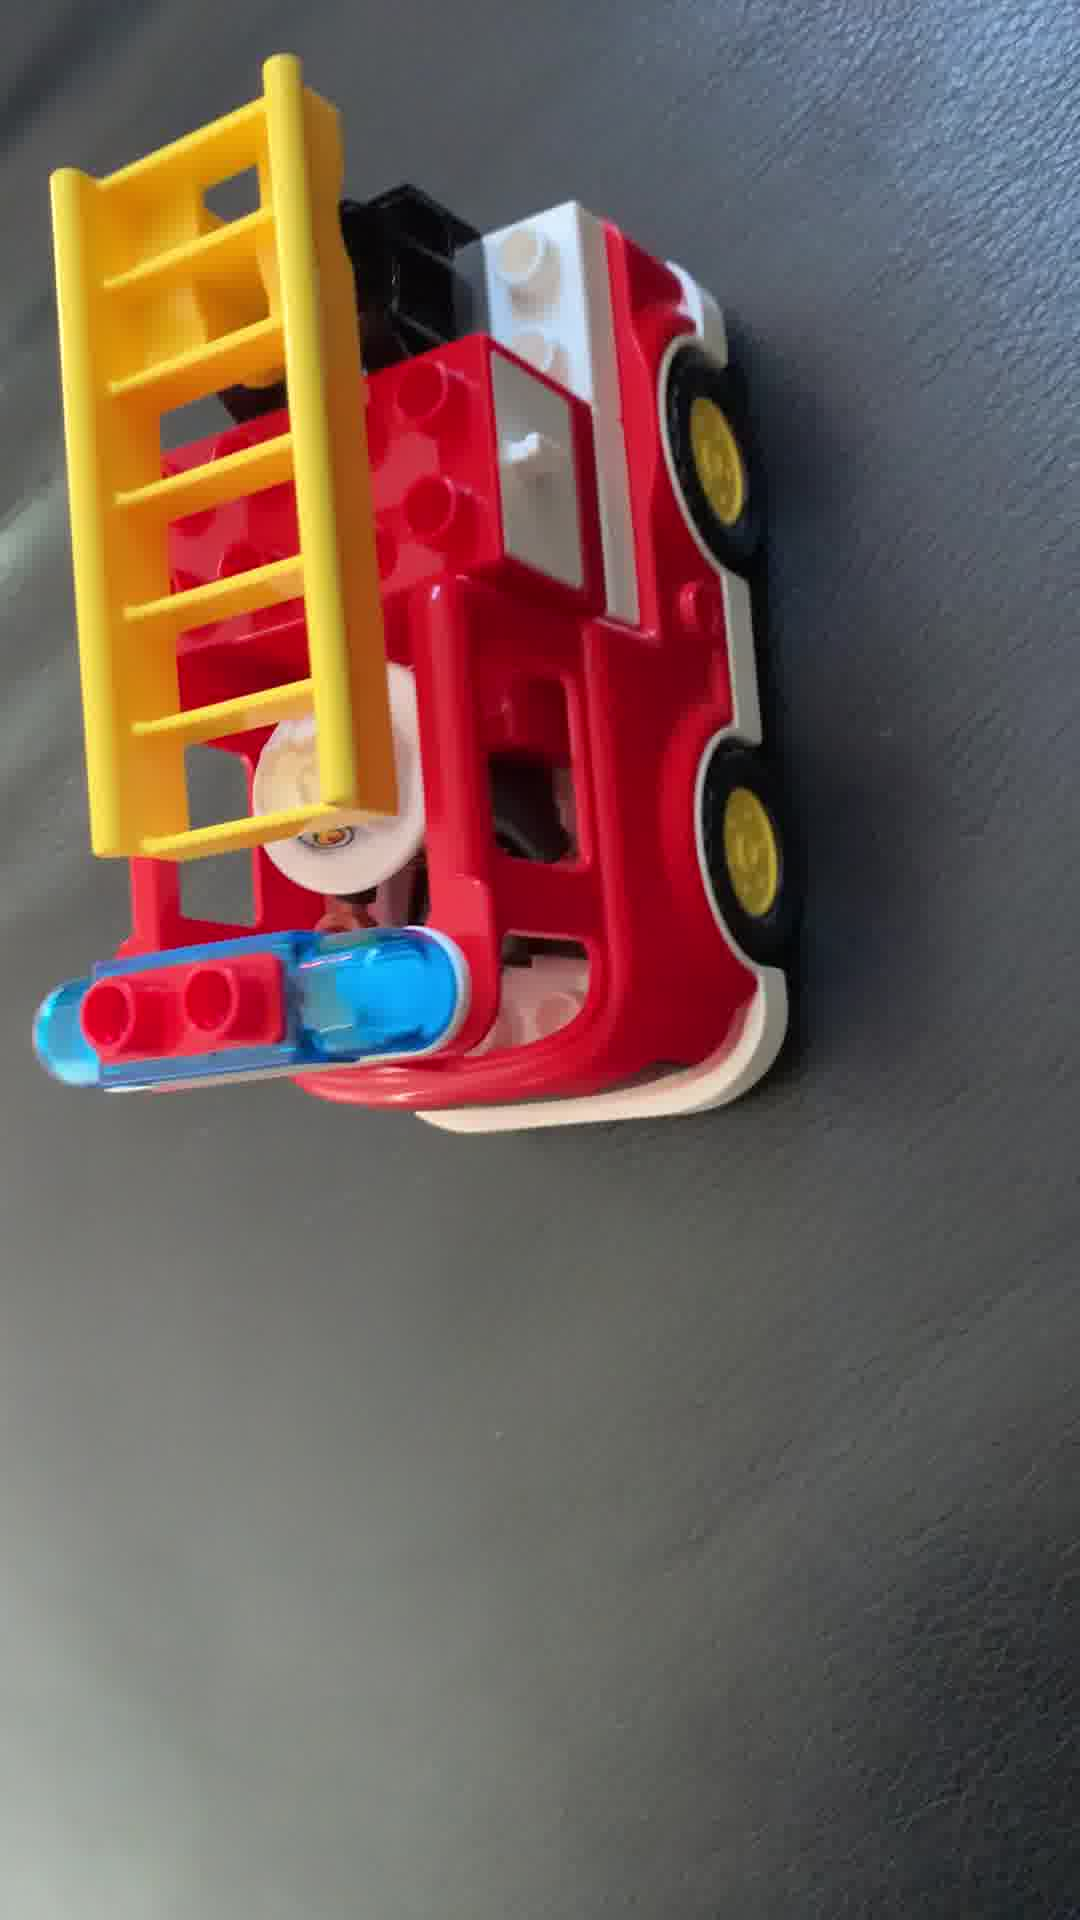lego fire truck: (25, 47, 796, 1139)
